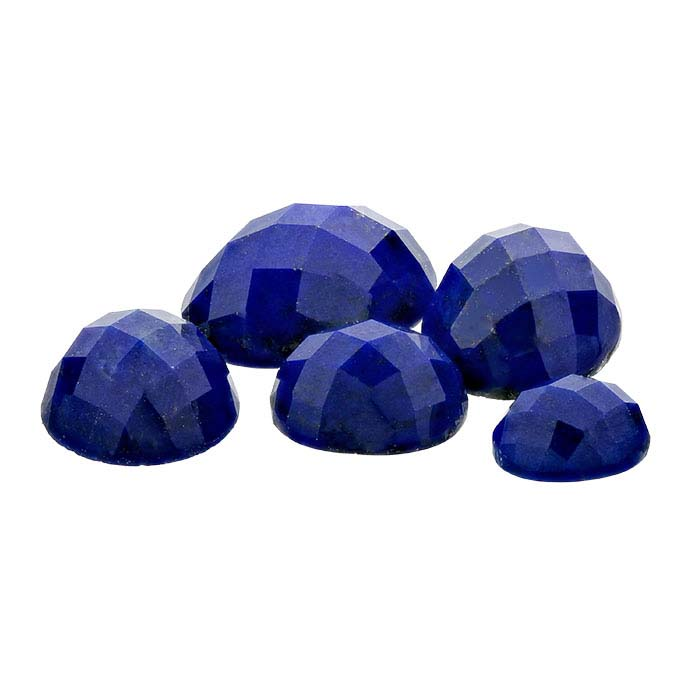Lapis_Lazuli: (184, 201, 432, 353), (37, 303, 241, 466), (430, 220, 620, 392), (270, 317, 471, 457)
